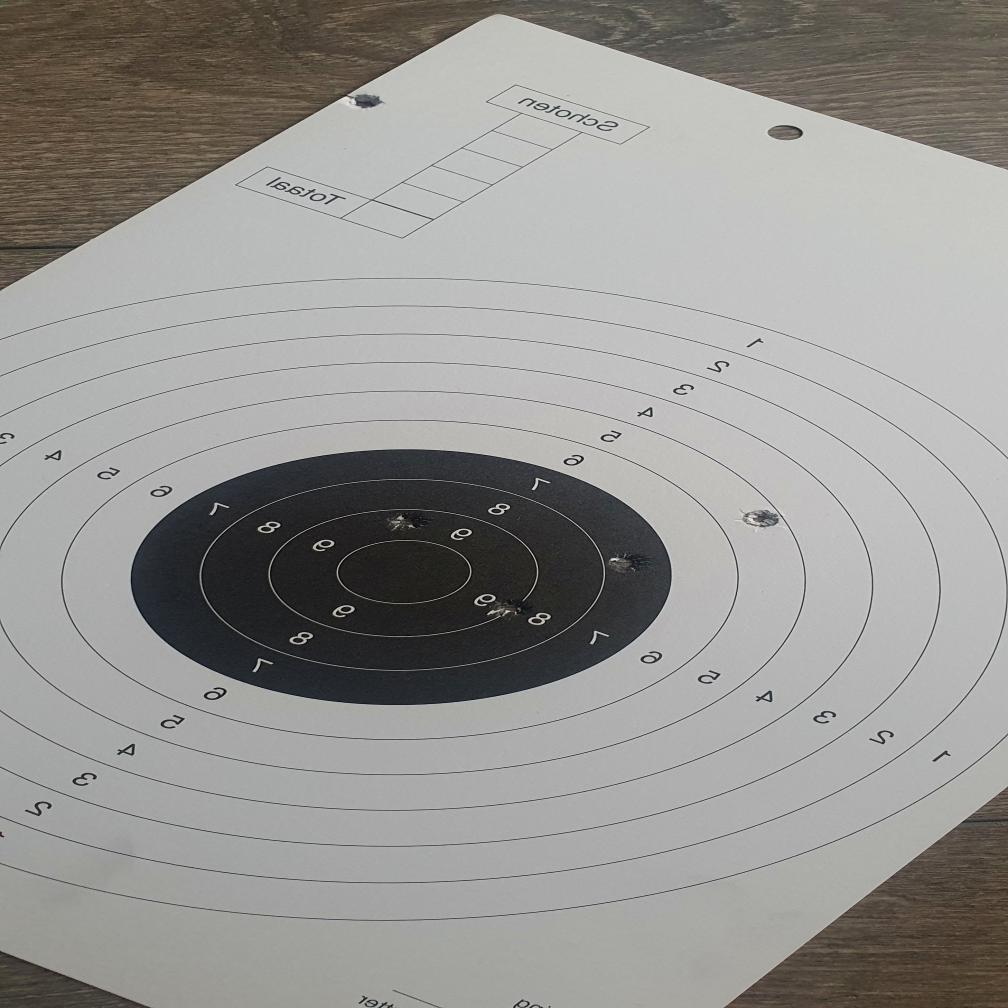0: (342, 92, 384, 110)
5: (739, 509, 785, 529)
7: (605, 552, 656, 574)
9: (486, 599, 535, 619), (388, 511, 433, 530)
Target: (0, 274, 1008, 924)
black_contour: (130, 449, 674, 704)
